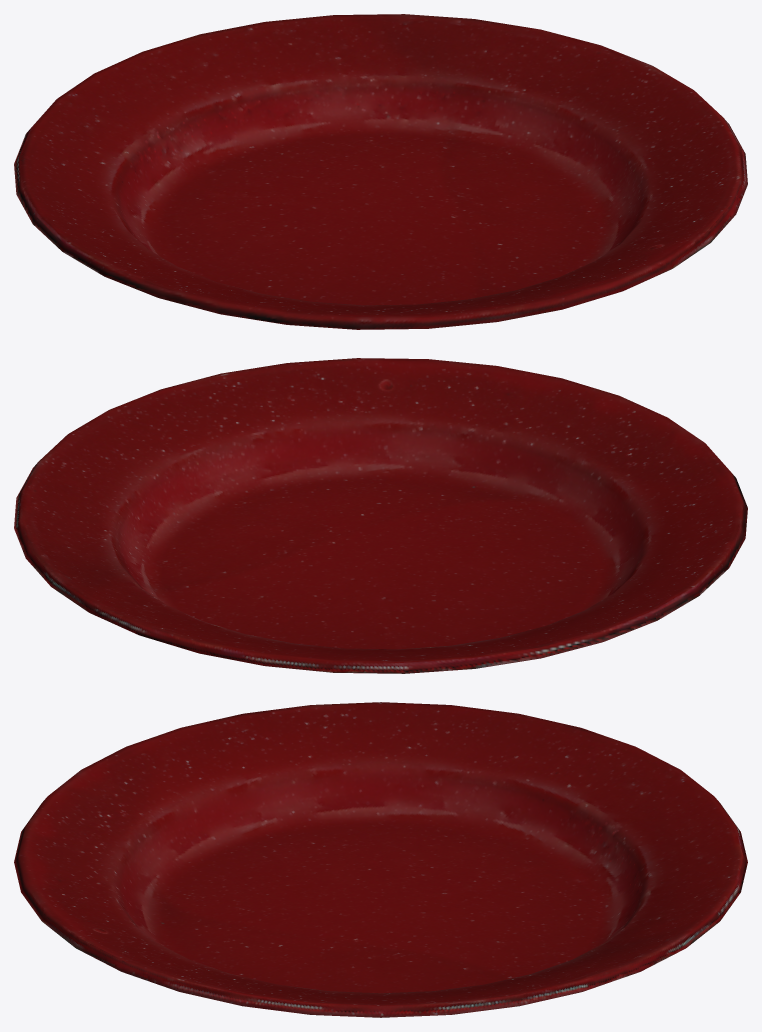
Rendered from 029_plate.dae.
3 renders of one model, top to bottom at view 1: azimuth 30°, elevation 25°; view 2: azimuth 150°, elevation 25°; view 3: azimuth 270°, elevation 25°, orthographic.
Visible parts, largest first — view 1: 029_plate; view 2: 029_plate; view 3: 029_plate.
Part boxes in pixels (bbox=[...]): 029_plate: bbox=[14, 14, 747, 329]; 029_plate: bbox=[14, 358, 747, 673]; 029_plate: bbox=[14, 702, 747, 1017].
Size of the model in its own units: 0.2607 by 0.2607 by 0.0253.
Materials: 1 (1 with a texture image).
